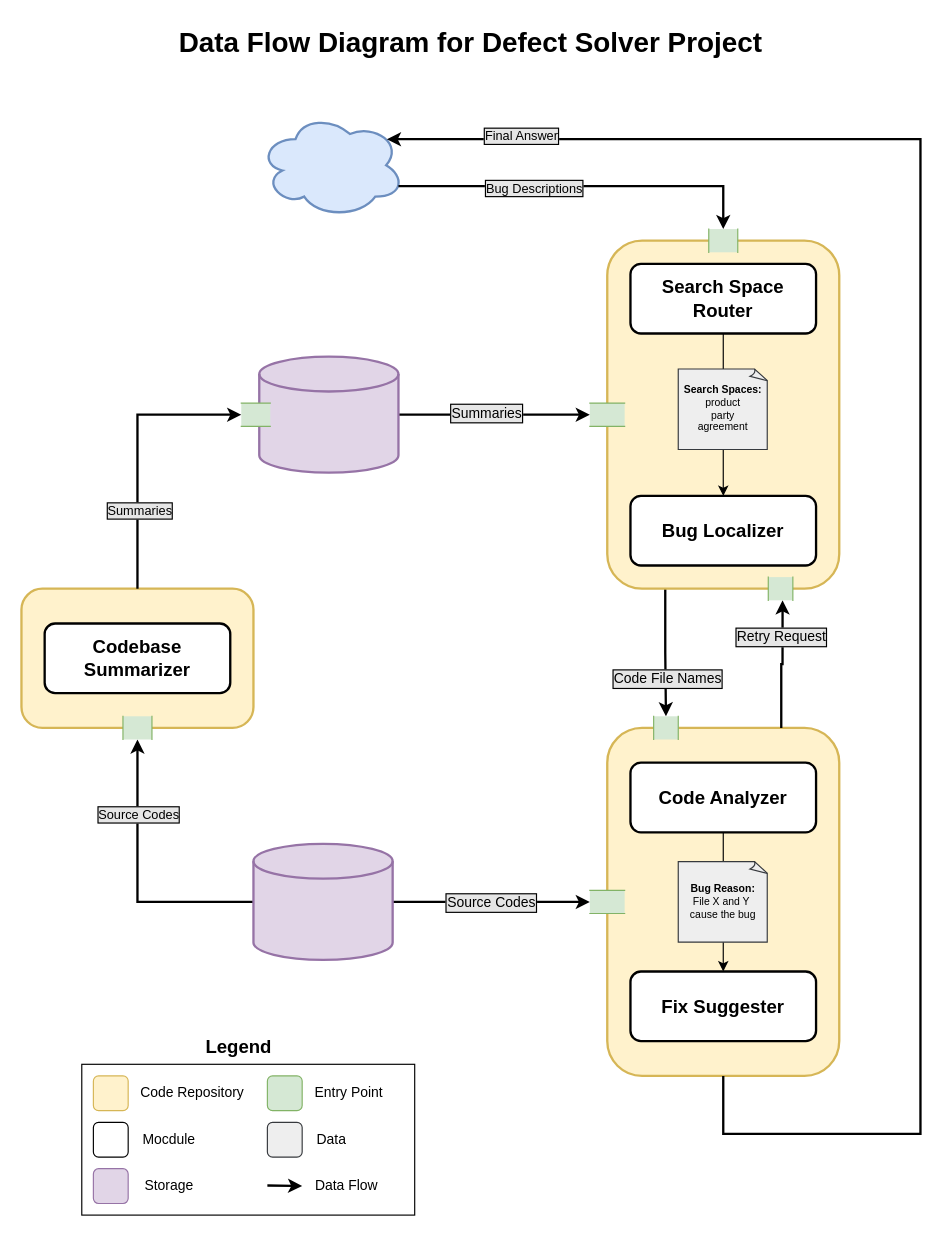
This 950x1235 diagram has some shape labels left out. The box of each missing label's shape, as (x1, y1, x2, y2) in pixels:
Central Storage: (258, 355, 399, 473)
Github Repository: (252, 842, 393, 960)
Jira: (258, 111, 405, 218)
